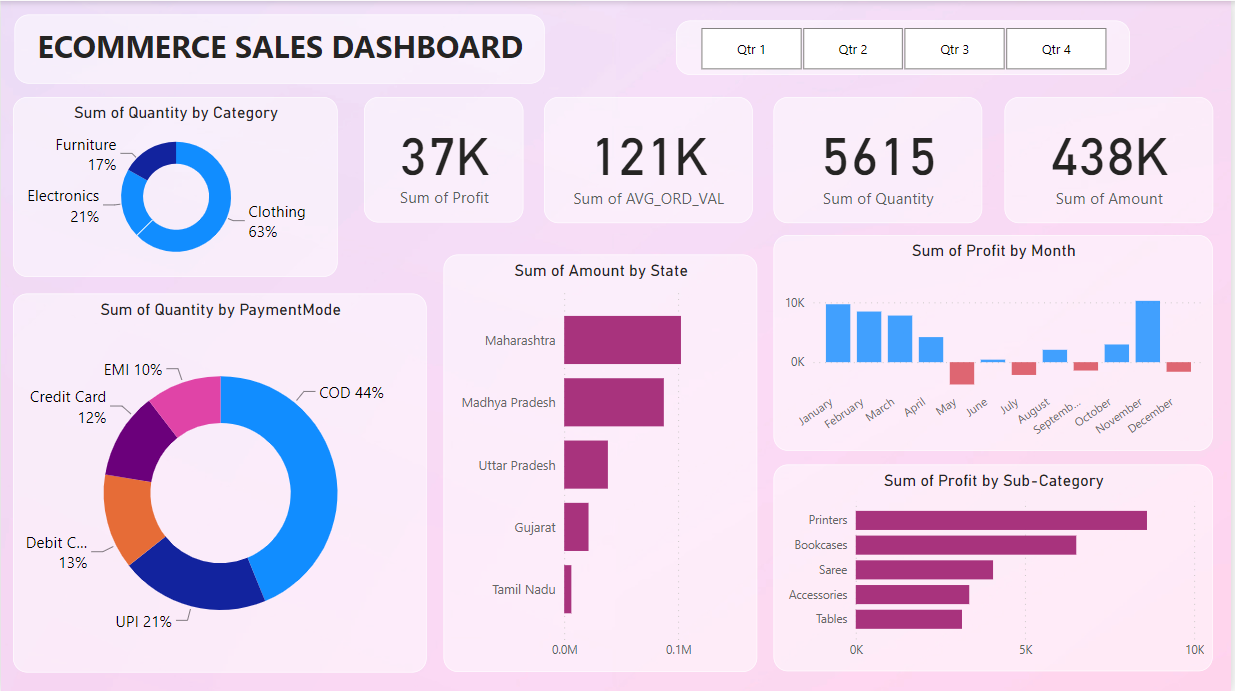

What the dashboard file says about the page in this screenshot:
{"tool":"powerbi","page":{"name":"Page 1","canvas":[1280,720],"ordinal":0},"visuals":[{"type":"textbox","box":[13.3,13.3,551.7,71.7],"z":0},{"type":"columnChart","fields":{"Y":["Sum(Details.Profit)"],"Category":["Orders.Order Date.Variation.Date Hierarchy.Month"]},"box":[805,243.8,457.3,224.9],"z":1000},{"type":"barChart","fields":{"Category":["Details.Sub-Category"],"Y":["Sum(Details.Profit)"]},"box":[805,481.9,457.3,215.4],"z":2000},{"type":"donutChart","fields":{"Category":["Details.Category"],"Y":["Sum(Details.Quantity)"]},"box":[13.2,100.2,338.3,187.1],"z":3000},{"type":"donutChart","fields":{"Category":["Details.PaymentMode"],"Y":["Sum(Details.Quantity)"]},"box":[13.2,304.3,430.9,395],"z":4000},{"type":"card","fields":{"Values":["Sum(Details.Amount)"]},"box":[1044.9,100,217.1,131.2],"z":5000},{"type":"card","fields":{"Values":["Sum(Details.Profit)"]},"box":[378,100.2,166.3,130.4],"z":6000},{"type":"card","fields":{"Values":["Sum(Details.Quantity)"]},"box":[804.3,100,217.1,131.2],"z":7000},{"type":"card","fields":{"Values":["Sum(Details.AVG_ORD_VAL)"]},"box":[565.4,100,217.1,131.2],"z":8000},{"type":"clusteredBarChart","fields":{"Category":["Orders.State"],"Y":["Sum(Details.Amount)"]},"box":[461.1,264.6,326.9,434.6],"z":8001},{"type":"slicer","fields":{"Values":["Orders.Order Date.Variation.Date Hierarchy.Quarter"]},"box":[703,20.8,472.4,56.7],"z":8002}]}

Visuals, with their boxes in screenshot pixels (x1, y1, x2, y2), scaled from the page's 1280x720 canvas onto the 1235x691 screenshot:
textbox: Rect(13, 13, 545, 82)
columnChart - Sum(Details.Profit) x Orders.Order Date.Variation.Date Hierarchy.Month: Rect(777, 234, 1218, 450)
barChart - Details.Sub-Category x Sum(Details.Profit): Rect(777, 462, 1218, 669)
donutChart - Details.Category x Sum(Details.Quantity): Rect(13, 96, 339, 276)
donutChart - Details.PaymentMode x Sum(Details.Quantity): Rect(13, 292, 428, 671)
card - Sum(Details.Amount): Rect(1008, 96, 1218, 222)
card - Sum(Details.Profit): Rect(365, 96, 525, 221)
card - Sum(Details.Quantity): Rect(776, 96, 985, 222)
card - Sum(Details.AVG_ORD_VAL): Rect(546, 96, 755, 222)
clusteredBarChart - Orders.State x Sum(Details.Amount): Rect(445, 254, 760, 671)
slicer - Orders.Order Date.Variation.Date Hierarchy.Quarter: Rect(678, 20, 1134, 74)
